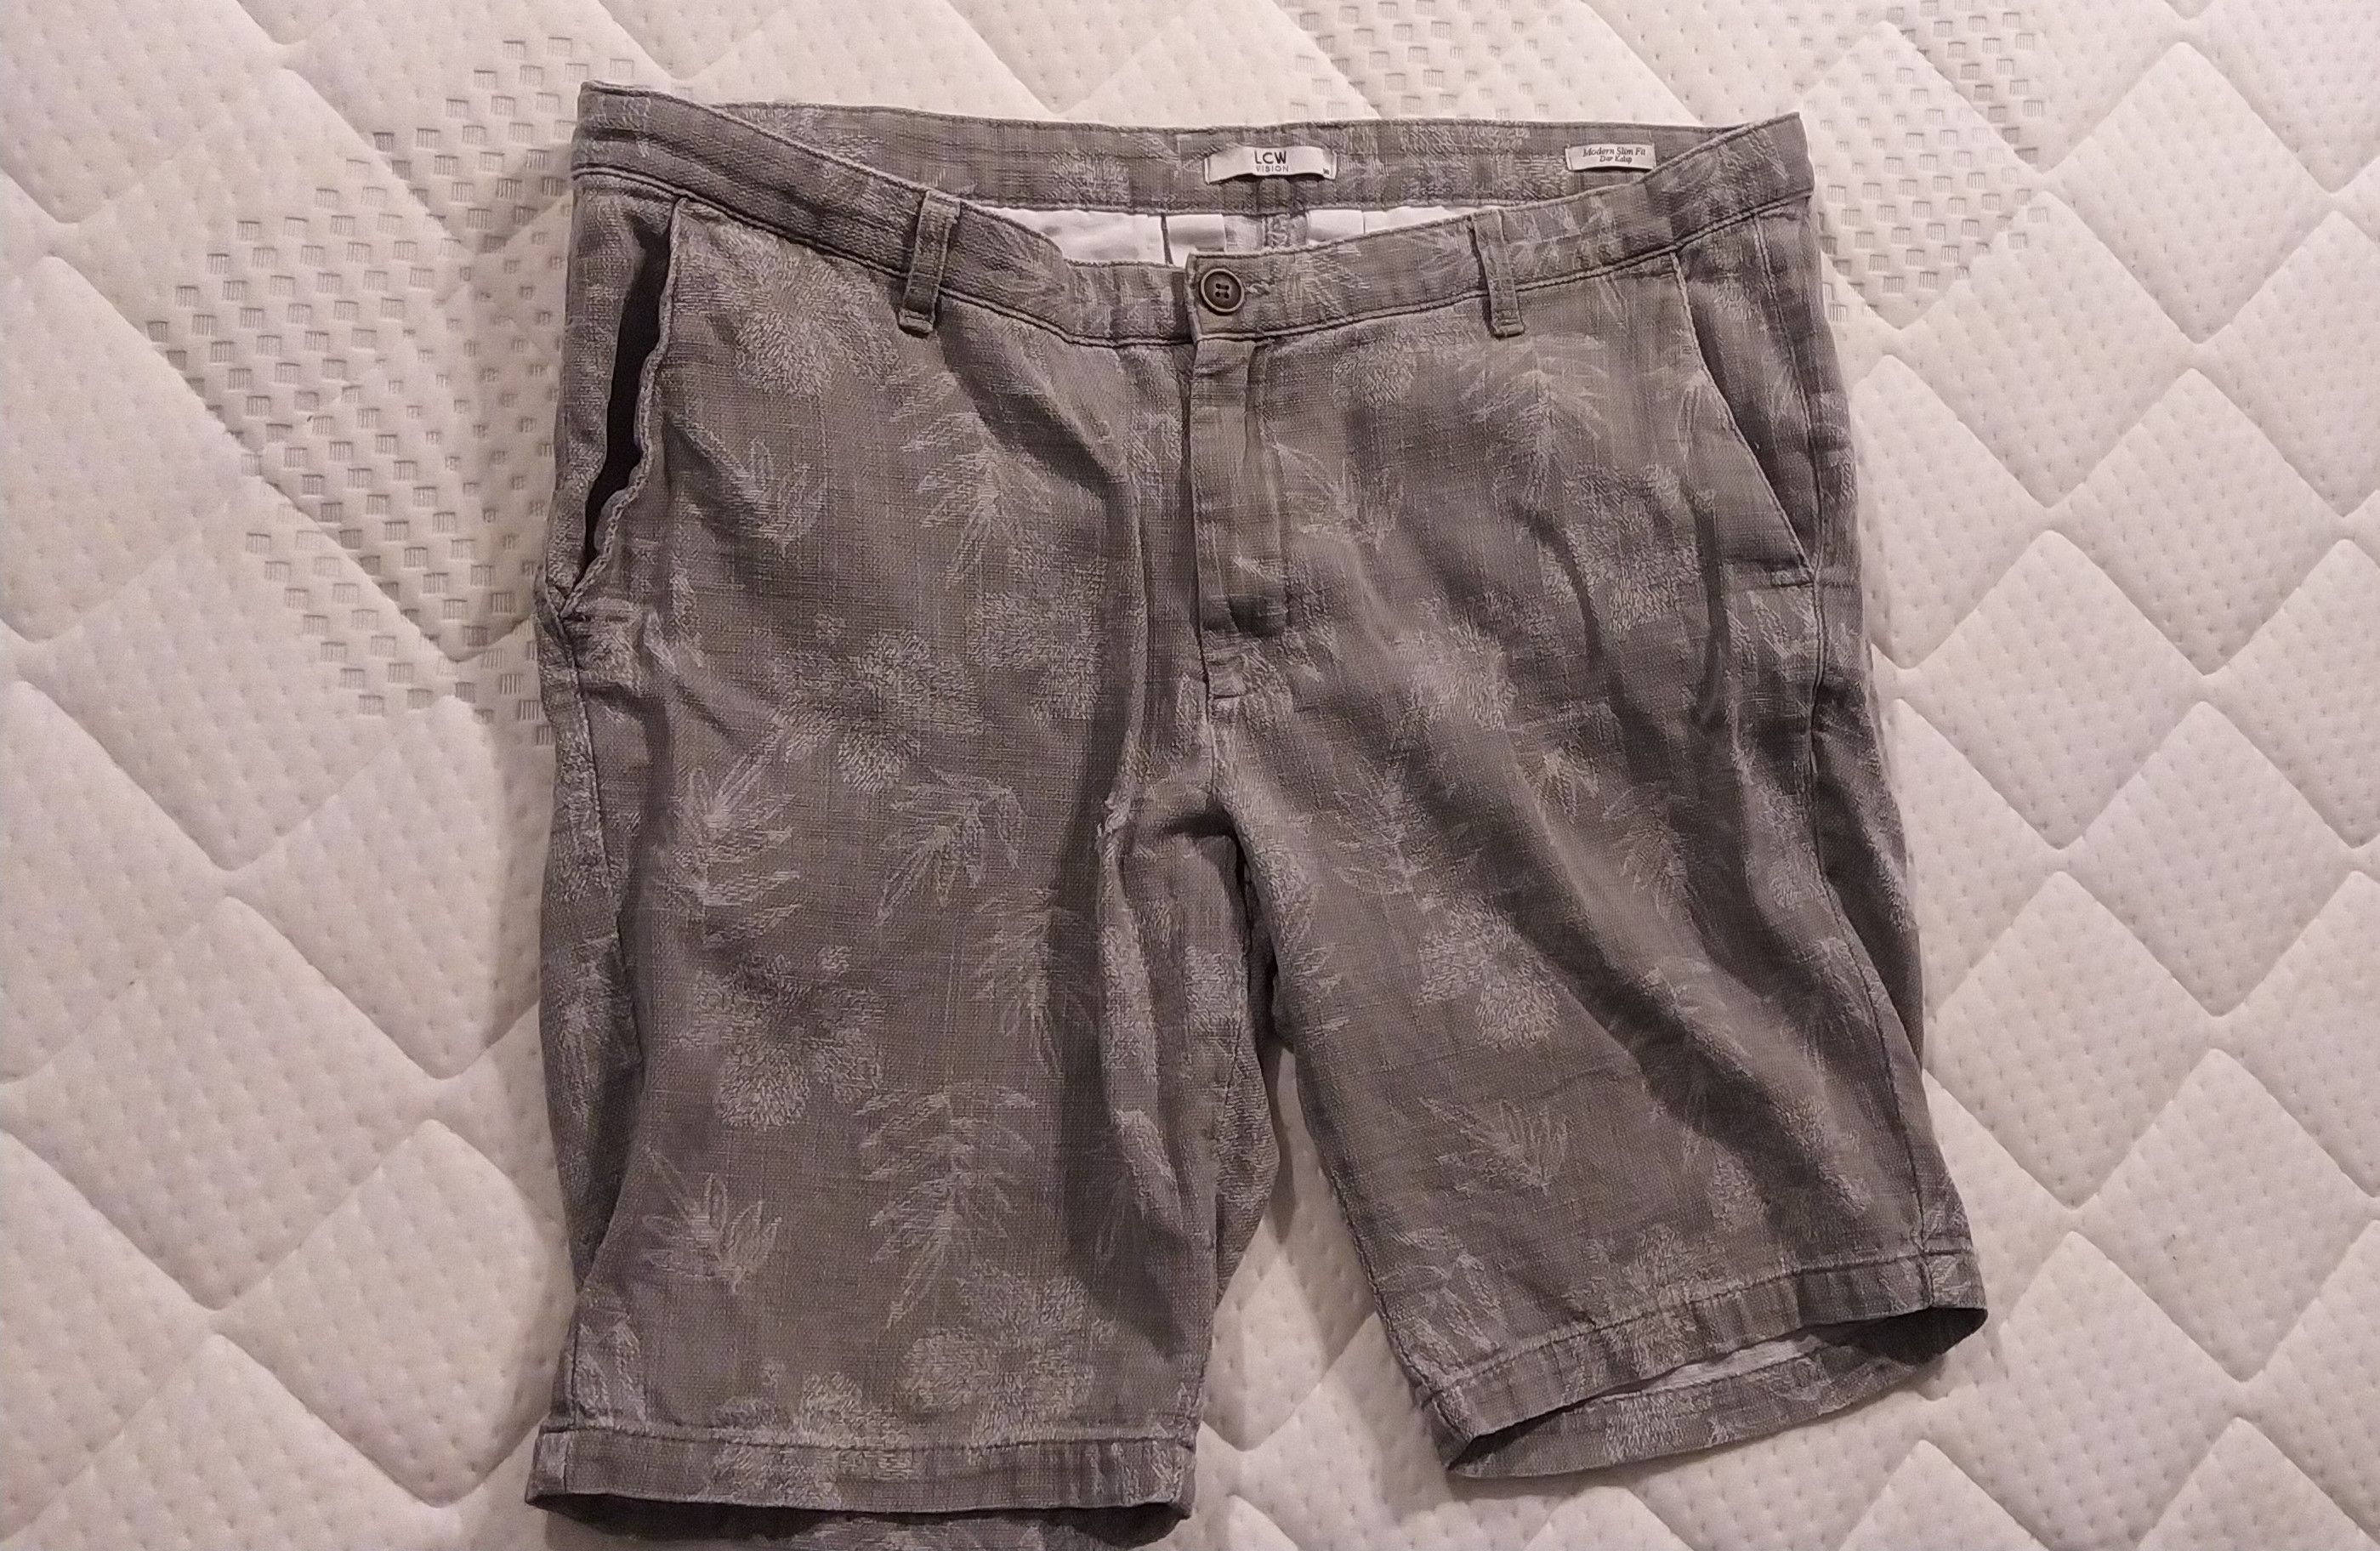clothes: (527, 59, 1981, 1494)
